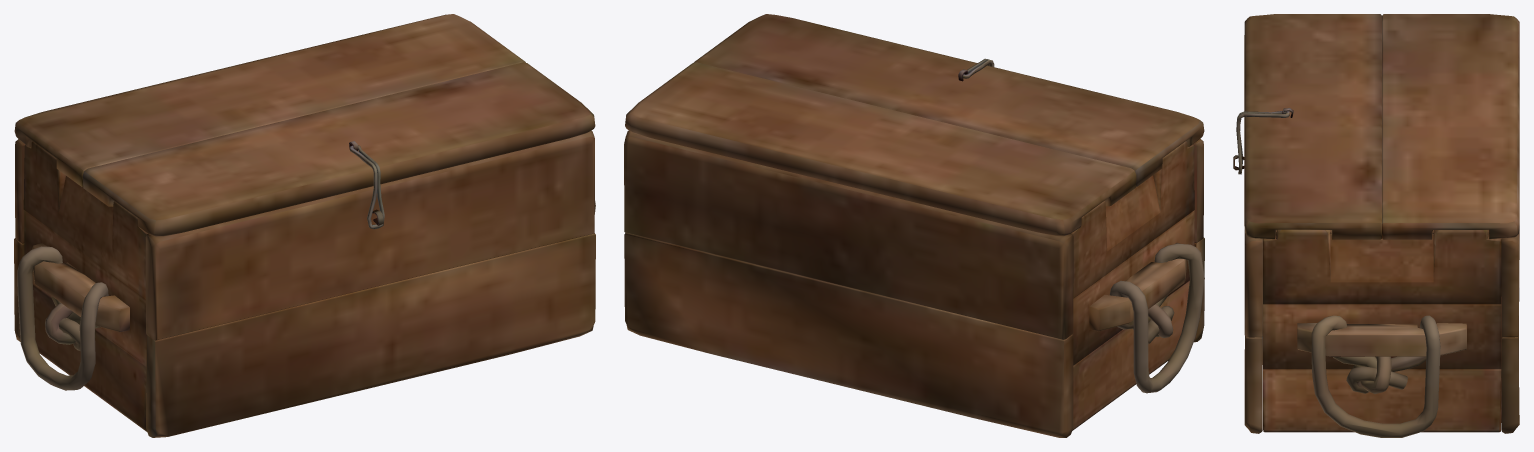
Rendered from wooden_crate_01.cbe88e78.glb.
3 views of the same model, side by side, from view 1: azimuth 30°, elevation 25°; view 2: azimuth 150°, elevation 25°; view 3: azimuth 270°, elevation 25° (orthographic). The views are drawn at different scales.
Parts seen in each view (by area): view 1: wooden_crate_01, wooden_crate_01_lid, wooden_crate_01_latch; view 2: wooden_crate_01, wooden_crate_01_lid; view 3: wooden_crate_01_lid, wooden_crate_01, wooden_crate_01_latch.
Boxes of the visible parts, <box> form: wooden_crate_01: <box>14,130,595,437</box>; wooden_crate_01_lid: <box>14,14,595,236</box>; wooden_crate_01_latch: <box>350,145,384,229</box>; wooden_crate_01: <box>624,130,1204,437</box>; wooden_crate_01_lid: <box>625,14,1204,236</box>; wooden_crate_01_lid: <box>1244,14,1519,239</box>; wooden_crate_01: <box>1233,155,1519,437</box>; wooden_crate_01_latch: <box>1236,111,1289,174</box>.
Bounding box in the file's own units: 0.8253 × 0.3495 × 0.4072.
1 material, 1 textured.
